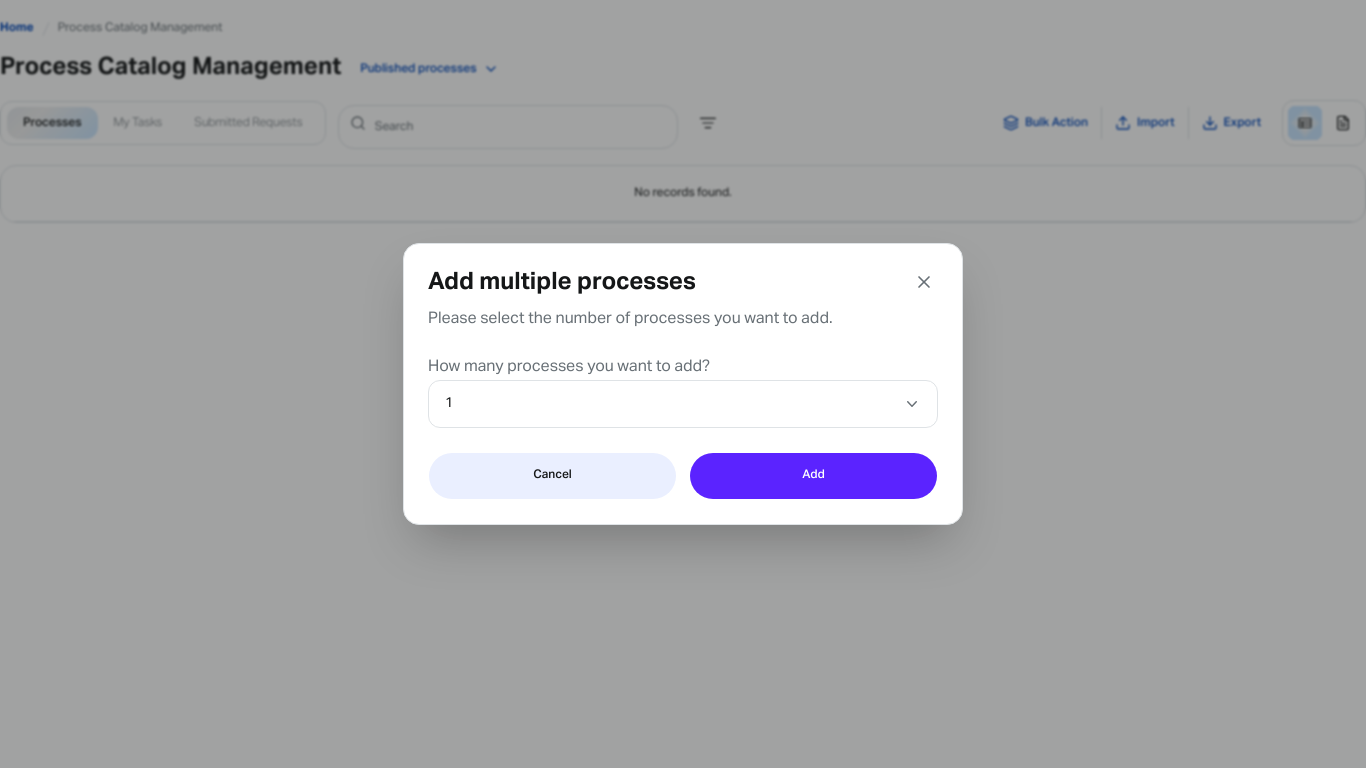
Test case: CatalogModule › closes the modal and confirms when Add button is clicked
Step 1. Click the button "Add" → (814,476), box left=689, top=452, right=938, bottom=500
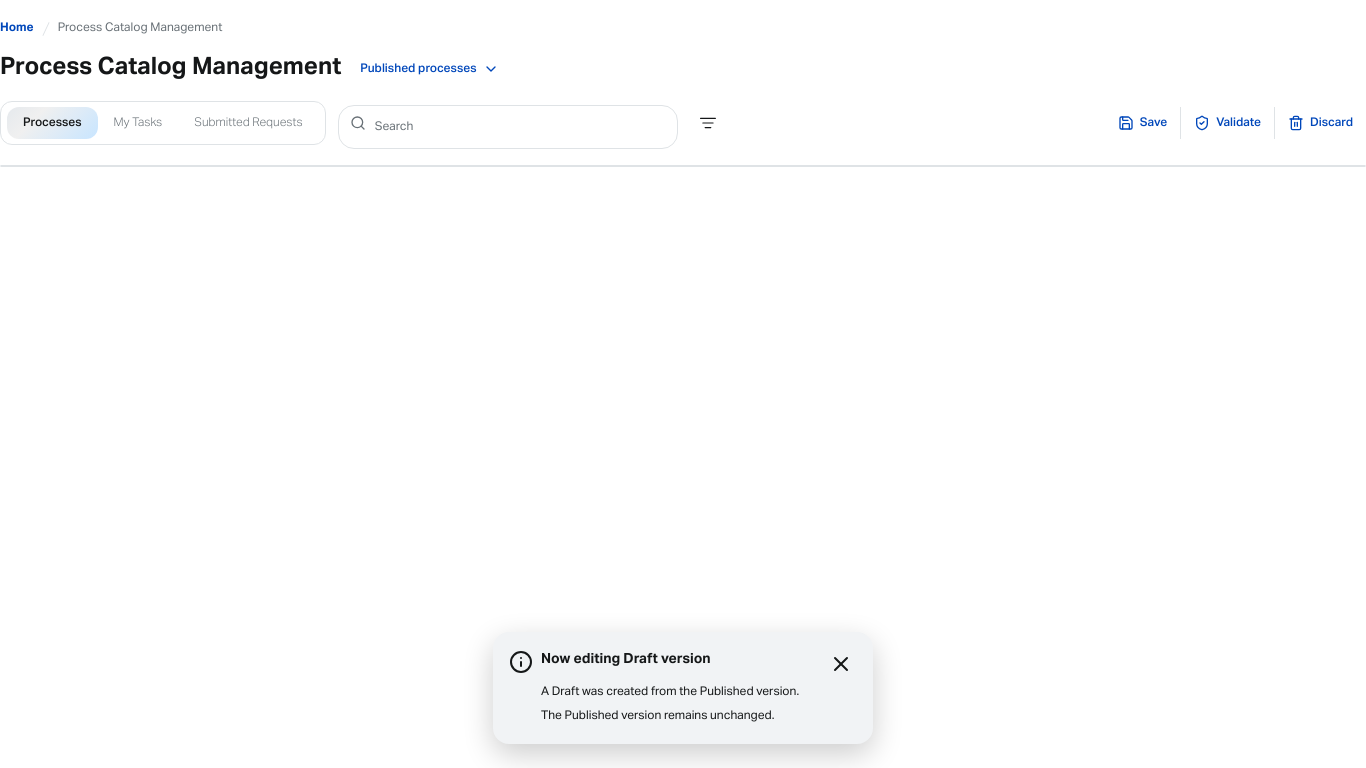
Check: the heading "Add multiple processes" is gone
